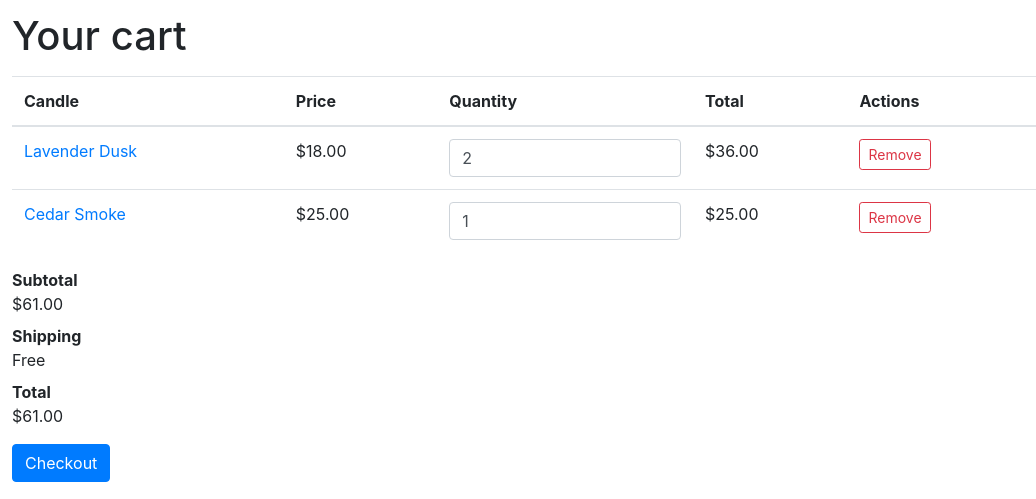
it: CartComponent › [BR-C3] removes a line with the Remove button
Click the button "Remove" in the row of "Lavender Dusk". click: (895, 154)
box: left=860, top=139, right=931, bottom=170
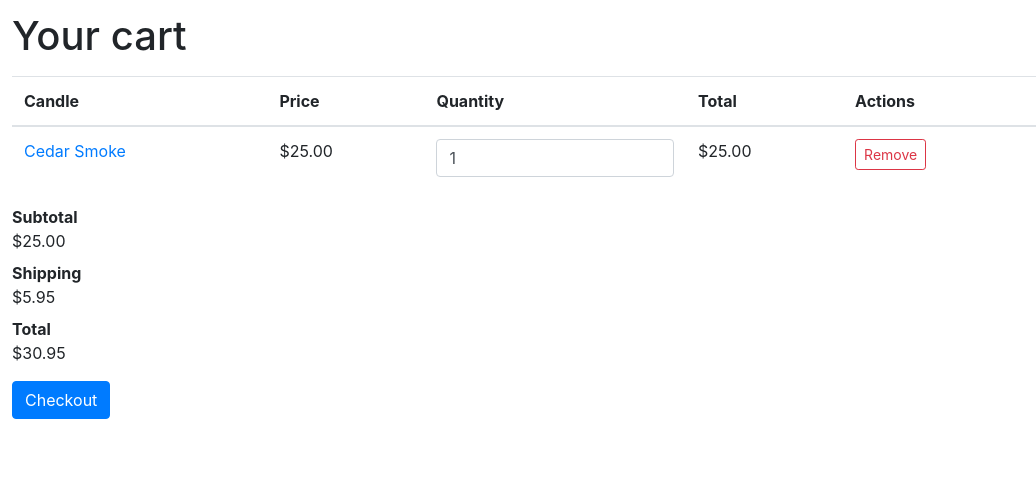
Expected: the text "Lavender Dusk" is gone
